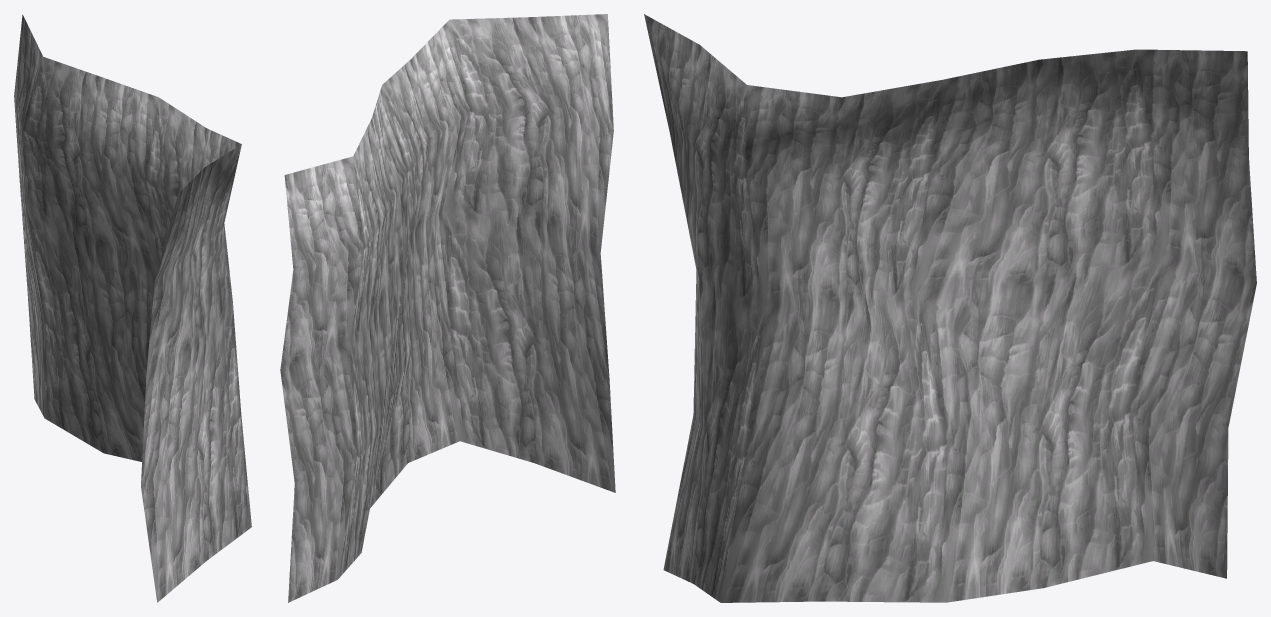
The model's file is SWORDLIGHT20_PS-AREA03_184.fbx.
3 renders of one model, left to right at view 1: azimuth 30°, elevation 25°; view 2: azimuth 150°, elevation 25°; view 3: azimuth 270°, elevation 25°, orthographic. The views are drawn at different scales.
Parts seen in each view (by area): view 1: SWORDLIGHT20_PS-AREA03_184; view 2: SWORDLIGHT20_PS-AREA03_184; view 3: SWORDLIGHT20_PS-AREA03_184.
Boxes of the visible parts, bbox=[...] form: SWORDLIGHT20_PS-AREA03_184: bbox=[14, 14, 251, 602]; SWORDLIGHT20_PS-AREA03_184: bbox=[280, 14, 615, 602]; SWORDLIGHT20_PS-AREA03_184: bbox=[644, 14, 1256, 602].
Size of the model in its own units: 57168 by 174480 by 169752.
Materials: 1 (1 with a texture image).
